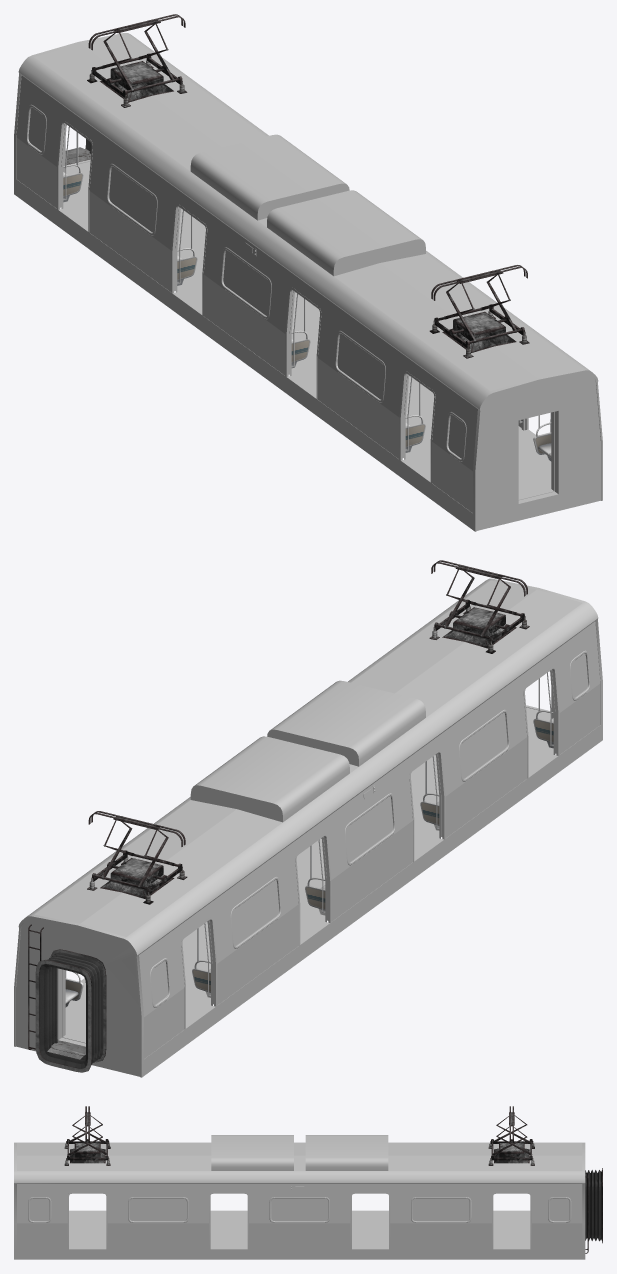
The model's file is Line9_Subway.FBX.
The picture shows the model from 3 angles, top to bottom: view 1: azimuth 30°, elevation 25°; view 2: azimuth 150°, elevation 25°; view 3: azimuth 270°, elevation 25°; orthographic projection. The views are drawn at different scales.
Visible parts, largest first — view 1: Line9_Subway; view 2: Line9_Subway; view 3: Line9_Subway.
Boxes of the visible parts, <box> form: Line9_Subway: <box>14,14,602,531</box>; Line9_Subway: <box>14,560,602,1077</box>; Line9_Subway: <box>14,1106,602,1259</box>.
Bounding box in the file's own units: 321 × 2062 × 472.
